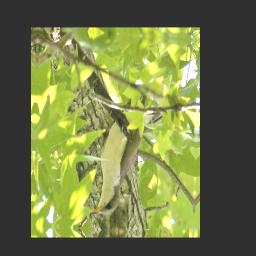Cuckoo: (89, 90, 164, 223)
